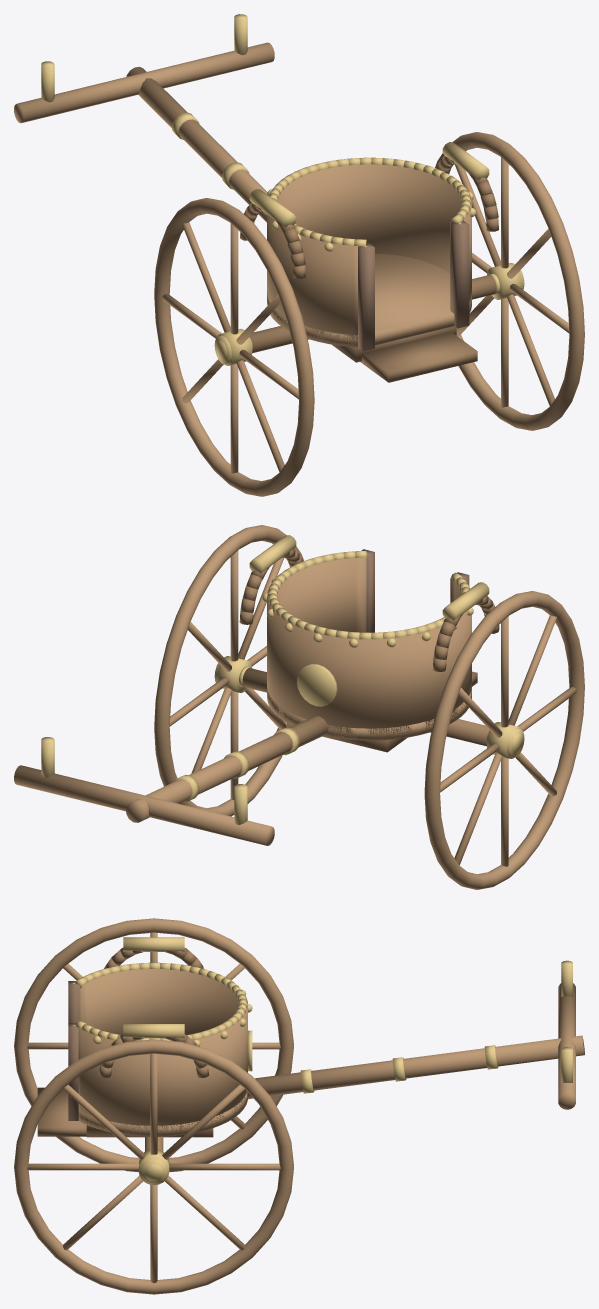
Rendered from _workspace_chariot_model_RomanChariot.glb.
3 renders of one model, top to bottom at view 1: azimuth 30°, elevation 25°; view 2: azimuth 150°, elevation 25°; view 3: azimuth 270°, elevation 25°, orthographic. The views are drawn at different scales.
Parts seen in each view (by area): view 1: CarBody_Wood, Wheel_L_Wood, Wheel_R_Wood, Yoke, CarBody_Leather, Footboard, DraughtPole, CarBody_Bronze, Axle, Handle_L, Handle_R, Handle_Grip_L (+4 smaller); view 2: CarBody_Wood, Wheel_L_Wood, Wheel_R_Wood, Yoke, CarBody_Bronze, DraughtPole, Axle, Handle_L, Handle_R, CarBody_Leather, Handle_Grip_L, Handle_Grip_R (+5 smaller); view 3: CarBody_Wood, Wheel_R_Wood, Wheel_L_Wood, DraughtPole, CarBody_Bronze, Yoke, Footboard, CarBody_Leather, Handle_Grip_L, Handle_Grip_R, Handle_R, Handle_L (+2 smaller).
Part boxes in pixels (left/top/right/bottom): CarBody_Wood: left=267, top=164, right=471, bottom=347; Wheel_L_Wood: left=154, top=198, right=314, bottom=496; Wheel_R_Wood: left=435, top=132, right=584, bottom=430; Yoke: left=14, top=42, right=274, bottom=123; CarBody_Leather: left=358, top=220, right=469, bottom=351; Footboard: left=360, top=331, right=477, bottom=382; DraughtPole: left=126, top=66, right=267, bottom=222; CarBody_Bronze: left=263, top=157, right=475, bottom=251; Axle: left=249, top=275, right=496, bottom=353; Handle_L: left=240, top=203, right=305, bottom=278; Handle_R: left=436, top=156, right=498, bottom=231; Handle_Grip_L: left=249, top=189, right=296, bottom=227; CarBody_Wood: left=267, top=557, right=471, bottom=740; Wheel_L_Wood: left=424, top=591, right=584, bottom=889; Wheel_R_Wood: left=154, top=525, right=303, bottom=816; Yoke: left=14, top=765, right=274, bottom=845; CarBody_Bronze: left=262, top=550, right=473, bottom=706; DraughtPole: left=126, top=716, right=328, bottom=822; Axle: left=242, top=668, right=489, bottom=746; Handle_L: left=432, top=596, right=499, bottom=671; Handle_R: left=239, top=549, right=302, bottom=624; CarBody_Leather: left=361, top=549, right=469, bottom=632; Handle_Grip_L: left=442, top=582, right=489, bottom=620; Handle_Grip_R: left=249, top=535, right=296, bottom=573; CarBody_Wood: left=76, top=969, right=247, bottom=1136; Wheel_R_Wood: left=14, top=1039, right=293, bottom=1294; Wheel_L_Wood: left=14, top=918, right=293, bottom=1172; DraughtPole: left=247, top=1035, right=584, bottom=1099; CarBody_Bronze: left=73, top=962, right=252, bottom=1071; Yoke: left=558, top=983, right=575, bottom=1109; Footboard: left=37, top=1087, right=86, bottom=1136; CarBody_Leather: left=68, top=981, right=80, bottom=1120; Handle_Grip_L: left=123, top=937, right=184, bottom=951; Handle_Grip_R: left=123, top=1024, right=184, bottom=1038; Handle_R: left=99, top=1034, right=208, bottom=1078; Handle_L: left=104, top=948, right=203, bottom=968.
Bounding box in the file's own units: 1.54 × 1.37 × 2.79.
